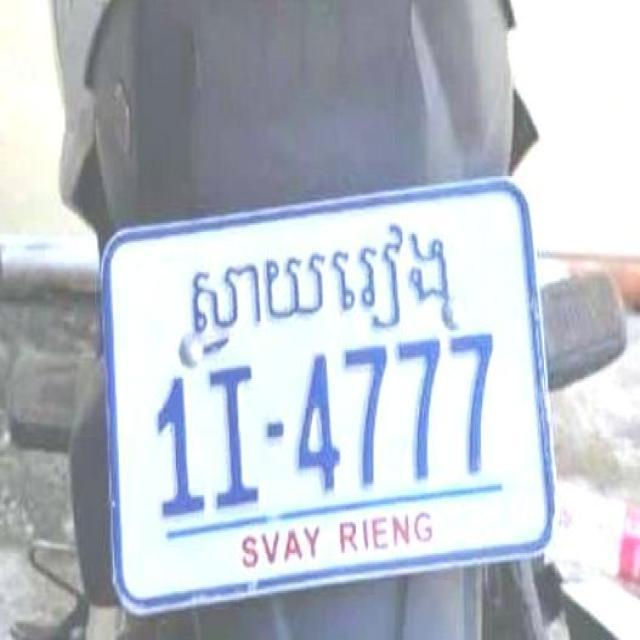Svay_Rieng: (182, 216, 456, 358)
